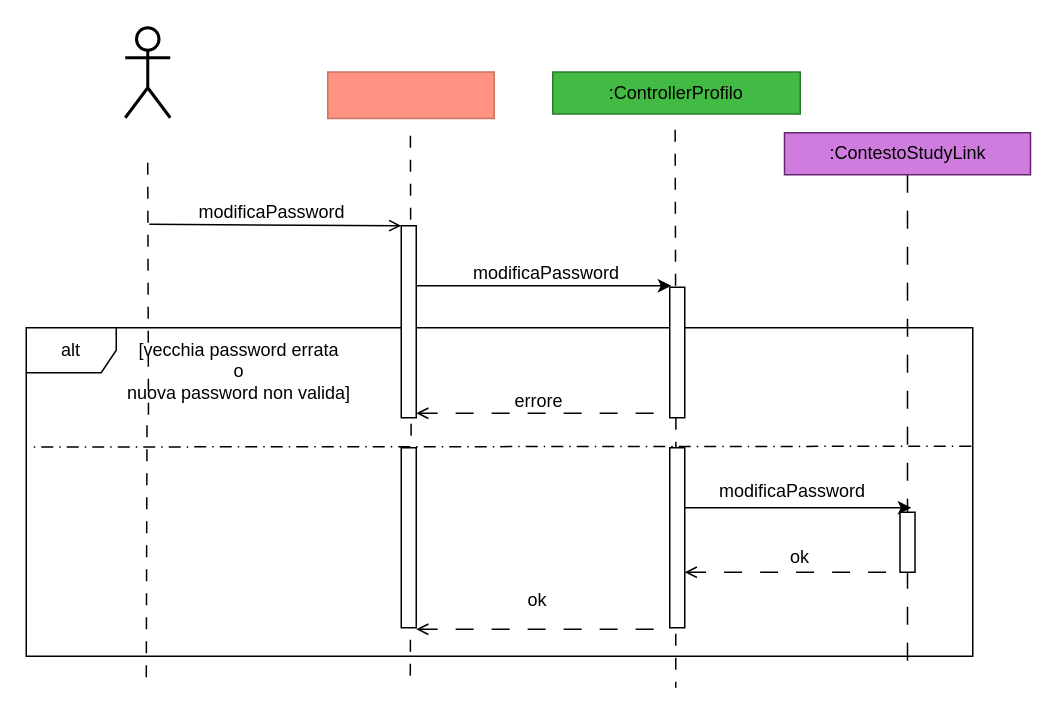
Some shapes in this 1058 by 716 pixel diagram are drawn without their labels. Here are the shapes that lost their labels. From the top down, the centre of each, then its label:
pixel 147 72: Utente
pixel 410 94: :ViewModificaProfilo
